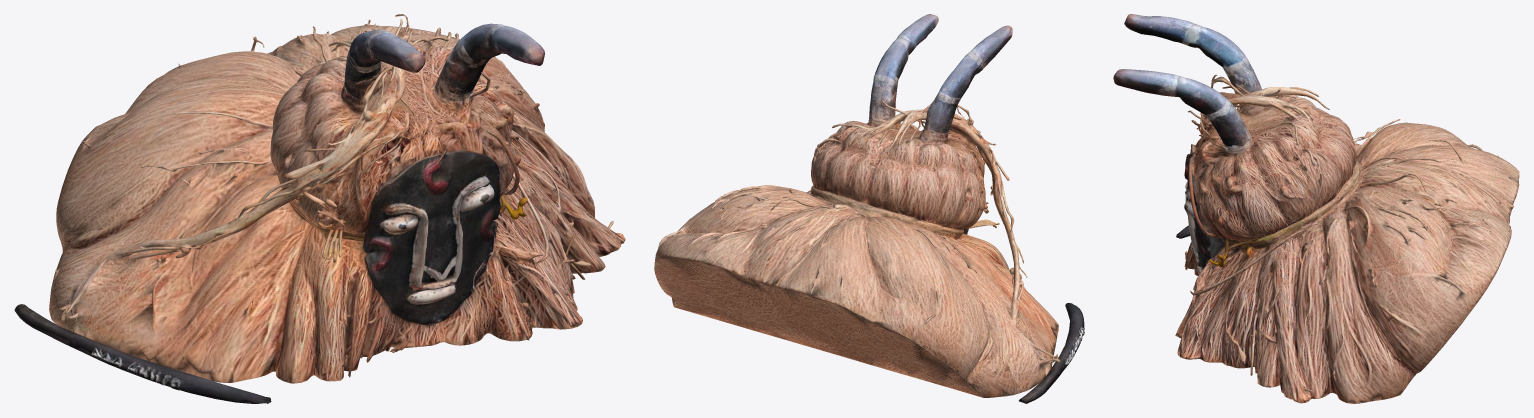
File: creature-paille.glb
The picture shows the model from 3 angles, left to right: view 1: azimuth 30°, elevation 25°; view 2: azimuth 150°, elevation 25°; view 3: azimuth 270°, elevation 25°; orthographic projection. The views are drawn at different scales.
Visible parts, largest first — view 1: tripo_node_51f4aa8e-634d-4edf-af67-cf9b85937fdf; view 2: tripo_node_51f4aa8e-634d-4edf-af67-cf9b85937fdf; view 3: tripo_node_51f4aa8e-634d-4edf-af67-cf9b85937fdf.
Boxes of the visible parts, x1=… form: tripo_node_51f4aa8e-634d-4edf-af67-cf9b85937fdf: x1=14, y1=14, x2=625, y2=403; tripo_node_51f4aa8e-634d-4edf-af67-cf9b85937fdf: x1=654, y1=14, x2=1084, y2=403; tripo_node_51f4aa8e-634d-4edf-af67-cf9b85937fdf: x1=1113, y1=14, x2=1519, y2=403.
Size of the model in its own units: 0.9711 by 0.5914 by 0.8116.
1 material, 1 textured.
